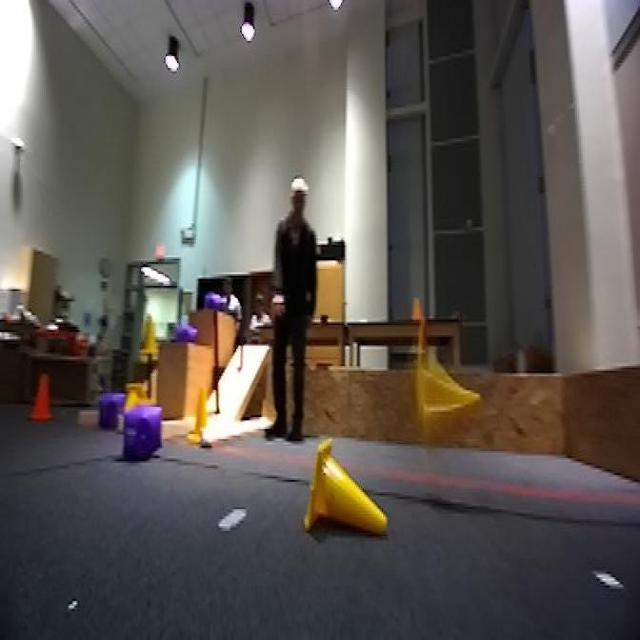frc_cone: (304, 439, 388, 533), (410, 352, 483, 434), (138, 306, 166, 362), (187, 385, 210, 441), (123, 378, 157, 410)
frc_cube: (126, 408, 162, 463), (93, 390, 128, 430), (169, 317, 201, 342), (203, 293, 225, 315)
